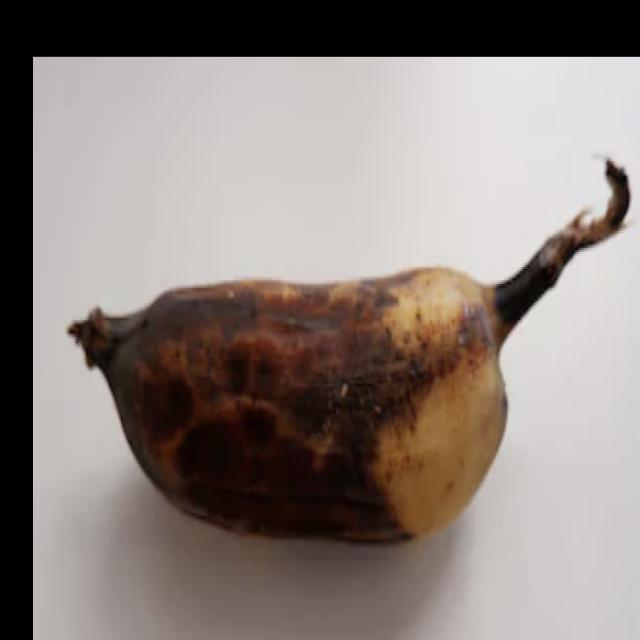Rotten: (66, 116, 640, 578)
